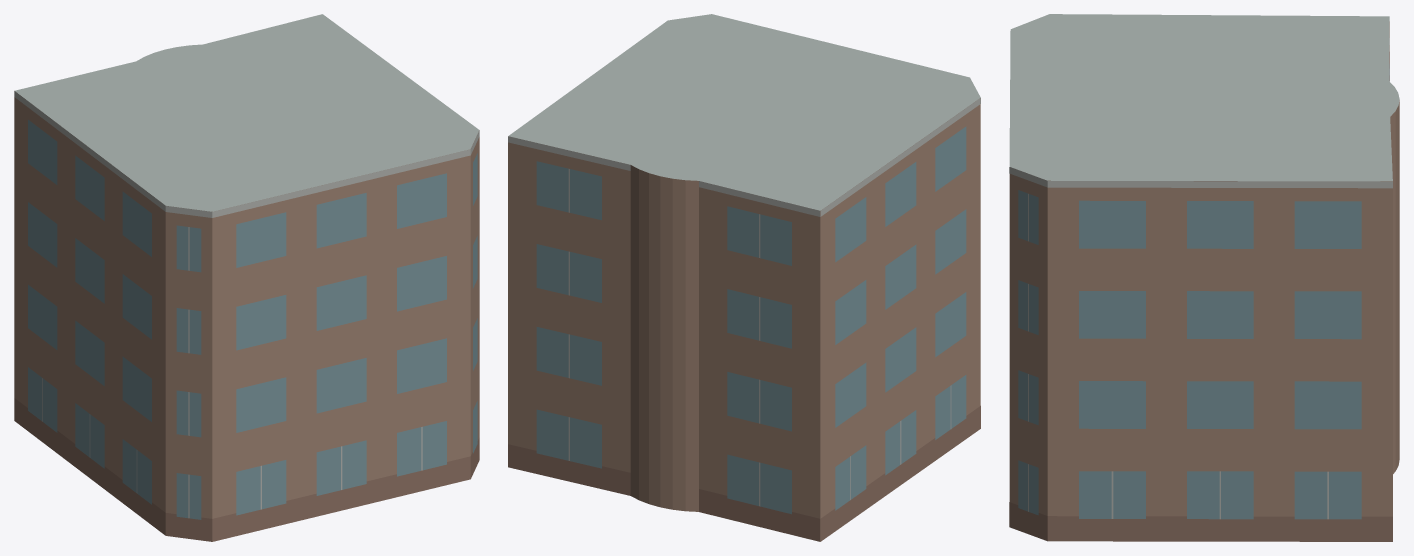
The model's file is survey-upis-32934006.glb.
3 renders of one model, left to right at view 1: azimuth 30°, elevation 25°; view 2: azimuth 150°, elevation 25°; view 3: azimuth 270°, elevation 25°, orthographic. The views are drawn at different scales.
Visible parts, largest first — view 1: survey-upis-32934006.tmp; view 2: survey-upis-32934006.tmp; view 3: survey-upis-32934006.tmp.
Boxes of the visible parts, left/top/right/bottom form: survey-upis-32934006.tmp: left=14, top=14, right=479, bottom=541; survey-upis-32934006.tmp: left=508, top=14, right=980, bottom=541; survey-upis-32934006.tmp: left=1009, top=14, right=1399, bottom=541.
Bounding box in the file's own units: 12.86 × 12.9 × 12.66.
